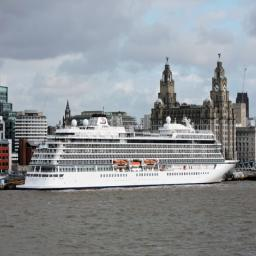cruises: (14, 114, 242, 195)
